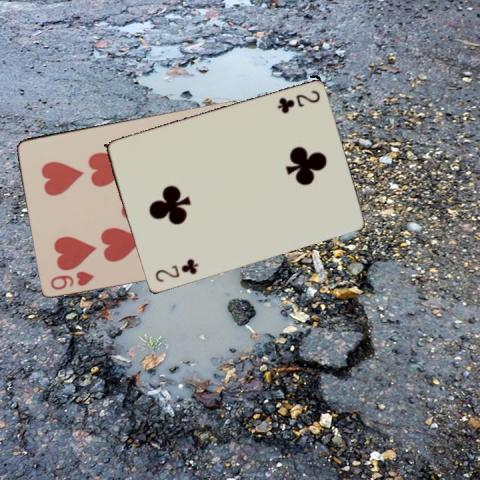2c: (151, 256, 200, 284), (274, 87, 321, 111)
9h: (47, 268, 96, 291)
